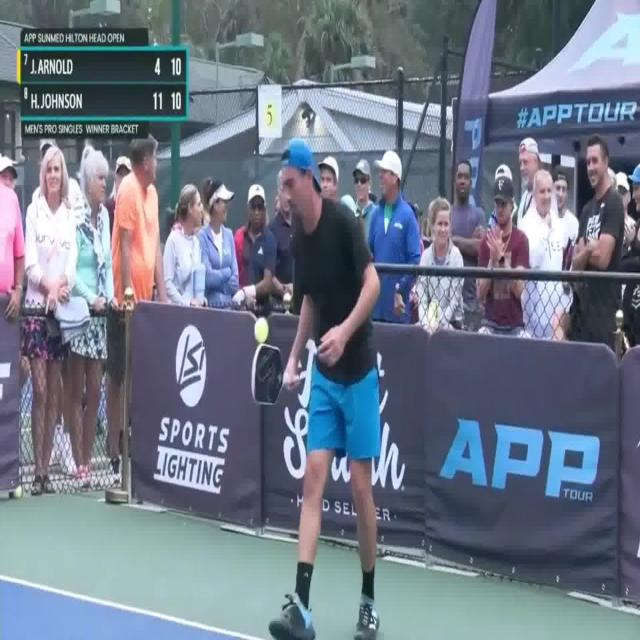ball: (251, 312, 270, 346)
